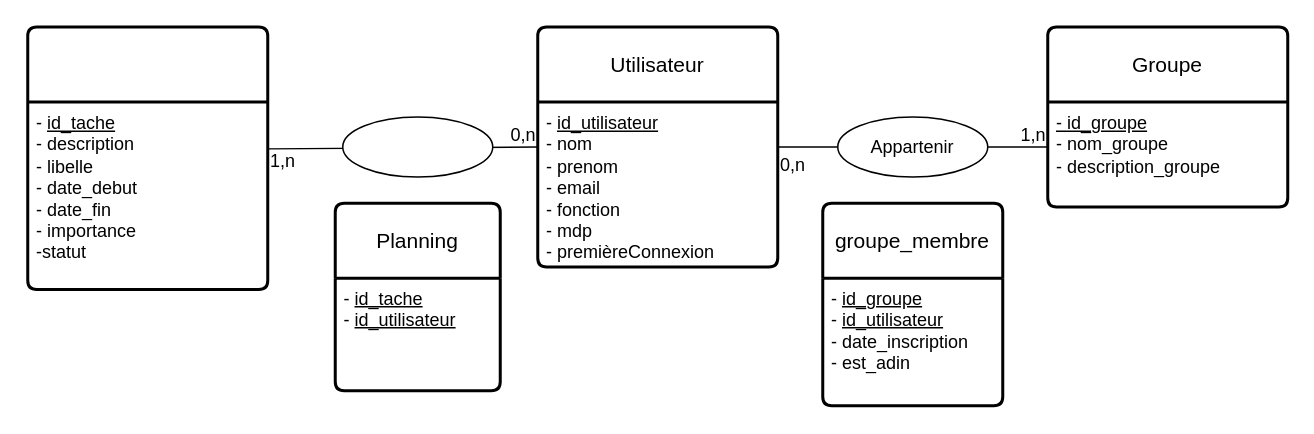
Some shapes in this 1314 by 434 pixel diagram are drawn without their labels. Each missing label, with the box of its shape:
Planifier: (341, 116, 493, 177)
Tâche: (26, 25, 268, 290)
